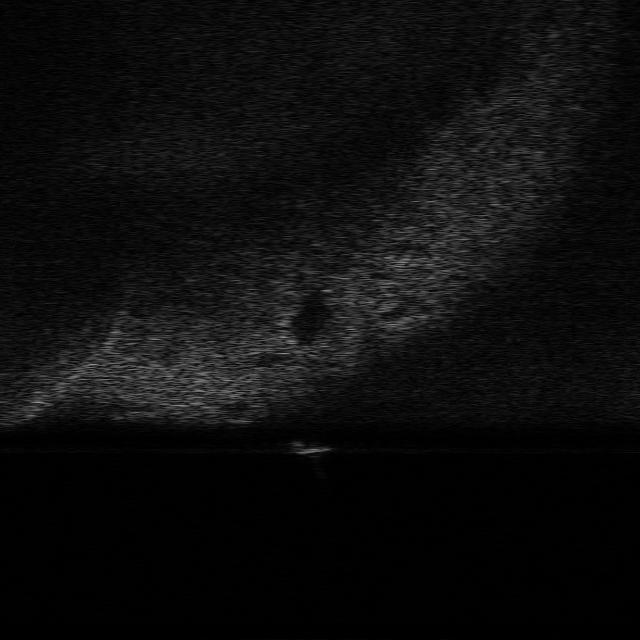cube: (285, 438, 334, 458)
